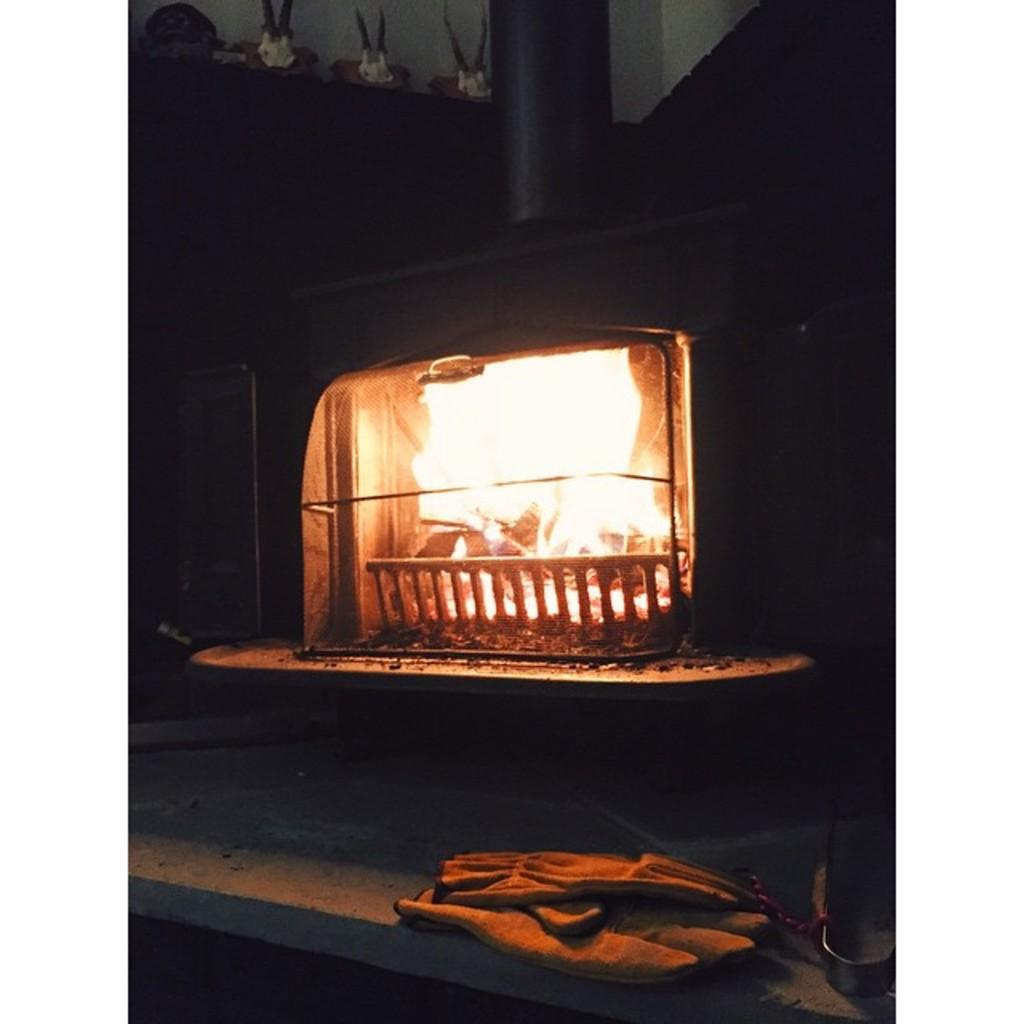Fire: (397, 360, 689, 618)
